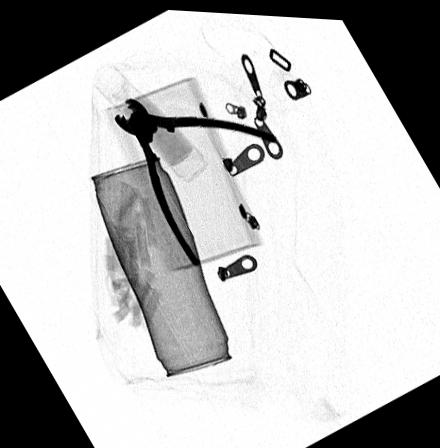Pliers: (112, 95, 275, 264)
